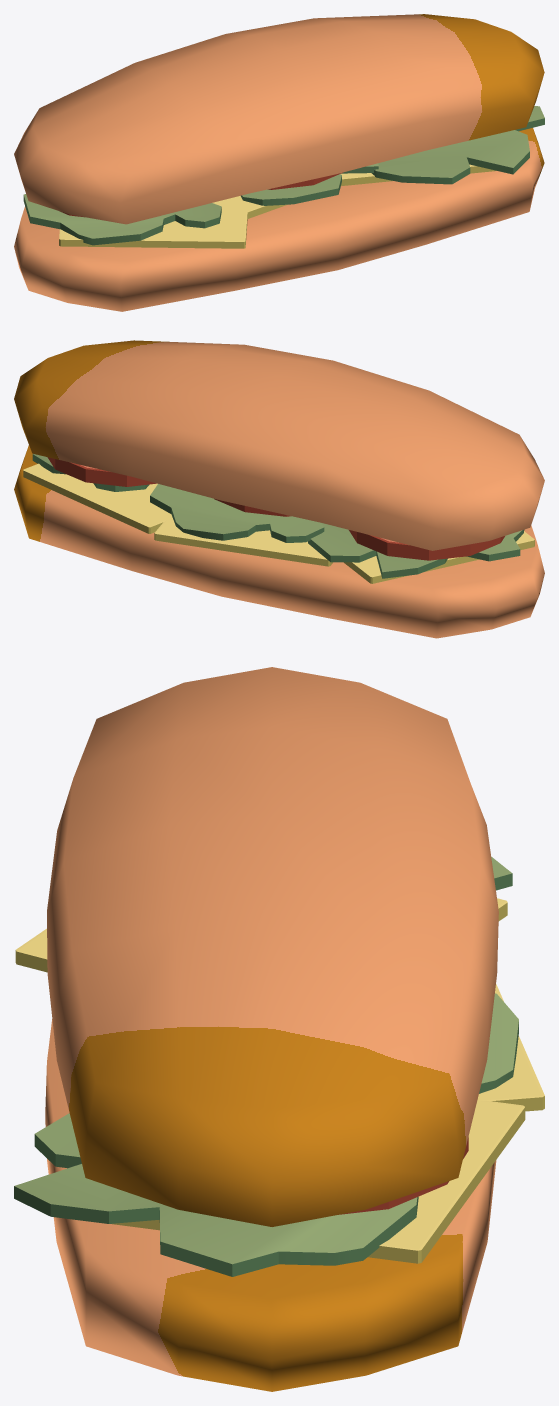
Rendered from Bocadillo.fbx.
The picture shows the model from 3 angles, top to bottom: view 1: azimuth 30°, elevation 25°; view 2: azimuth 150°, elevation 25°; view 3: azimuth 270°, elevation 25°; orthographic projection. The views are drawn at different scales.
Parts seen in each view (by area): view 1: Pan_Arriba.002, Pan_Arriba.003, Lechuga.005, Lechuga.006, Queso.005, Lechuga.004, Queso.003, Queso.004; view 2: Pan_Arriba.002, Pan_Arriba.003, Lechuga.004, Queso.003, Lechuga.006, Queso.004, Tomate.006, Tomate.005, Queso.005, Lechuga.005; view 3: Pan_Arriba.002, Pan_Arriba.003, Lechuga.005, Queso.003, Lechuga.004, Queso.004, Queso.005.
Part boxes in pixels (box(x1,y1,x2,y2)): Pan_Arriba.002: box(14, 14, 544, 224); Pan_Arriba.003: box(14, 128, 544, 311); Lechuga.005: box(371, 106, 544, 184); Lechuga.006: box(23, 194, 221, 245); Queso.005: box(59, 196, 247, 248); Lechuga.004: box(241, 163, 378, 205); Queso.003: box(341, 164, 496, 185); Queso.004: box(223, 173, 352, 218); Pan_Arriba.002: box(14, 340, 544, 550); Pan_Arriba.003: box(14, 445, 544, 638); Lechuga.004: box(150, 484, 324, 542); Queso.003: box(23, 463, 172, 533); Lechuga.006: box(308, 523, 524, 578); Queso.004: box(154, 518, 332, 566); Tomate.006: box(349, 530, 504, 560); Tomate.005: box(47, 457, 156, 486); Queso.005: box(344, 531, 534, 583); Lechuga.005: box(32, 454, 149, 491); Pan_Arriba.002: box(47, 667, 498, 1226); Pan_Arriba.003: box(45, 1019, 496, 1391); Lechuga.005: box(14, 1113, 418, 1276); Queso.003: box(112, 1100, 525, 1263); Lechuga.004: box(479, 993, 518, 1093); Queso.004: box(477, 984, 544, 1111); Queso.005: box(15, 898, 507, 972).
Size of the model in its own units: 40.82 by 13.66 by 18.82.
